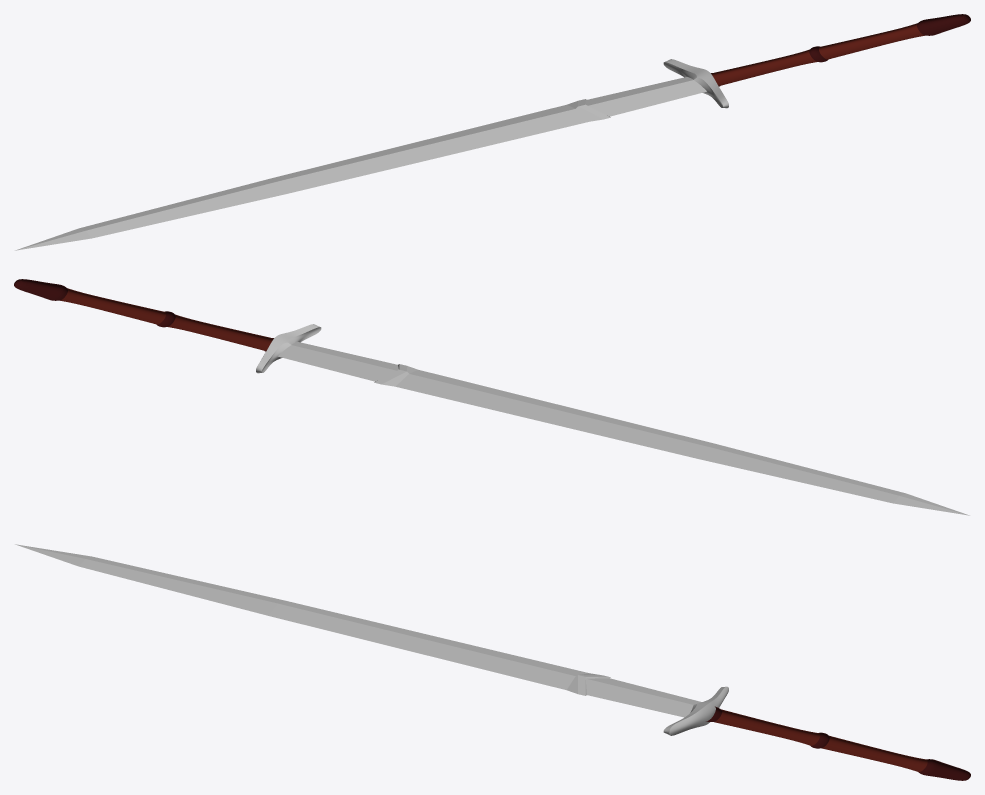
File: ロングソード.fbx
3 views of the same model, one above another, from view 1: azimuth 30°, elevation 25°; view 2: azimuth 150°, elevation 25°; view 3: azimuth 330°, elevation 25° (orthographic).
Visible parts, largest first — view 1: ロングソード; view 2: ロングソード; view 3: ロングソード.
Part boxes in pixels (<box>): ロングソード: <box>15,14,970,250</box>; ロングソード: <box>14,279,969,515</box>; ロングソード: <box>15,544,970,780</box>.
Bounding box in the file's own units: 99.97 × 2 × 10.81.
